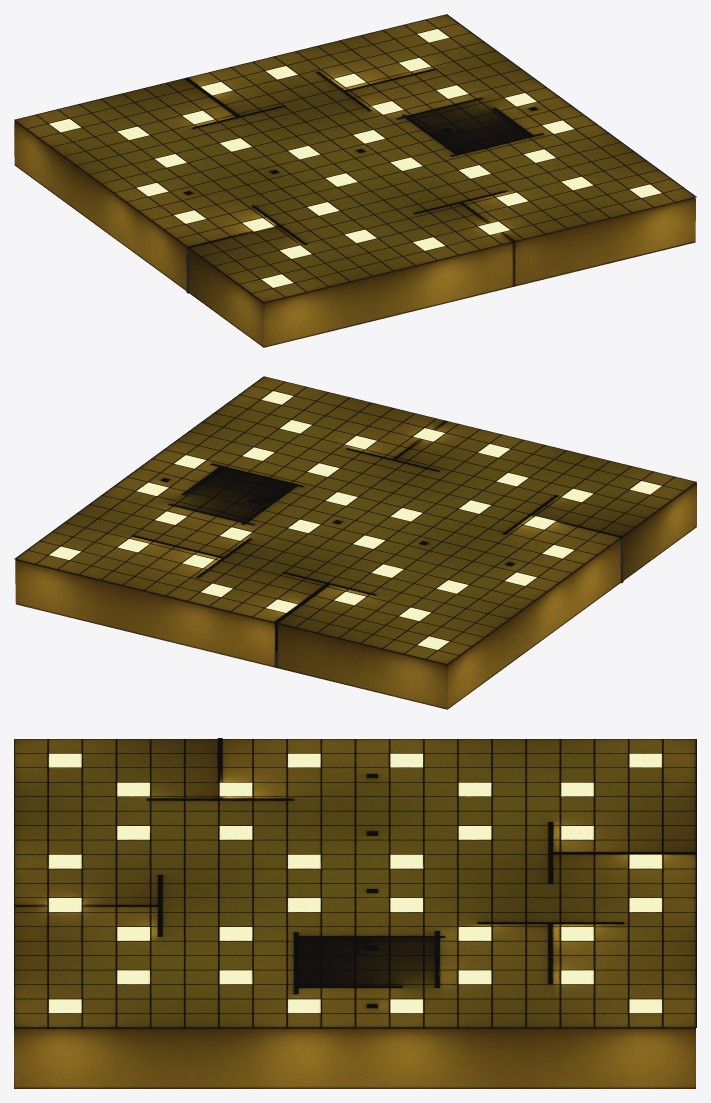
The model's file is backrooms.glb.
3 views of the same model, one above another, from view 1: azimuth 30°, elevation 25°; view 2: azimuth 150°, elevation 25°; view 3: azimuth 270°, elevation 25° (orthographic). The views are drawn at different scales.
Parts seen in each view (by area): view 1: Ceiling.001_0, OuterWalls.002_2; view 2: Ceiling.001_0, OuterWalls.002_2; view 3: Ceiling.001_0, OuterWalls.002_2, Carpet.001_1.
Part boxes in pixels (bbox=[...]): Ceiling.001_0: bbox=[14, 14, 696, 302]; OuterWalls.002_2: bbox=[14, 19, 695, 347]; Ceiling.001_0: bbox=[14, 376, 696, 664]; OuterWalls.002_2: bbox=[15, 376, 696, 709]; Ceiling.001_0: bbox=[14, 739, 696, 1027]; OuterWalls.002_2: bbox=[14, 738, 695, 1088]; Carpet.001_1: bbox=[14, 1073, 695, 1088].
Size of the model in its own units: 26.81 by 2.67 by 26.71.
Materials: 3 (3 with a texture image).
